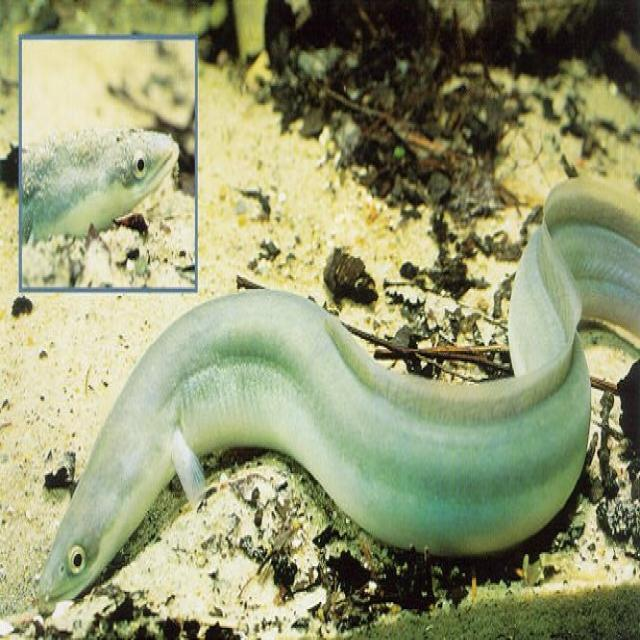Freshwater-Eel: (50, 168, 640, 636)
